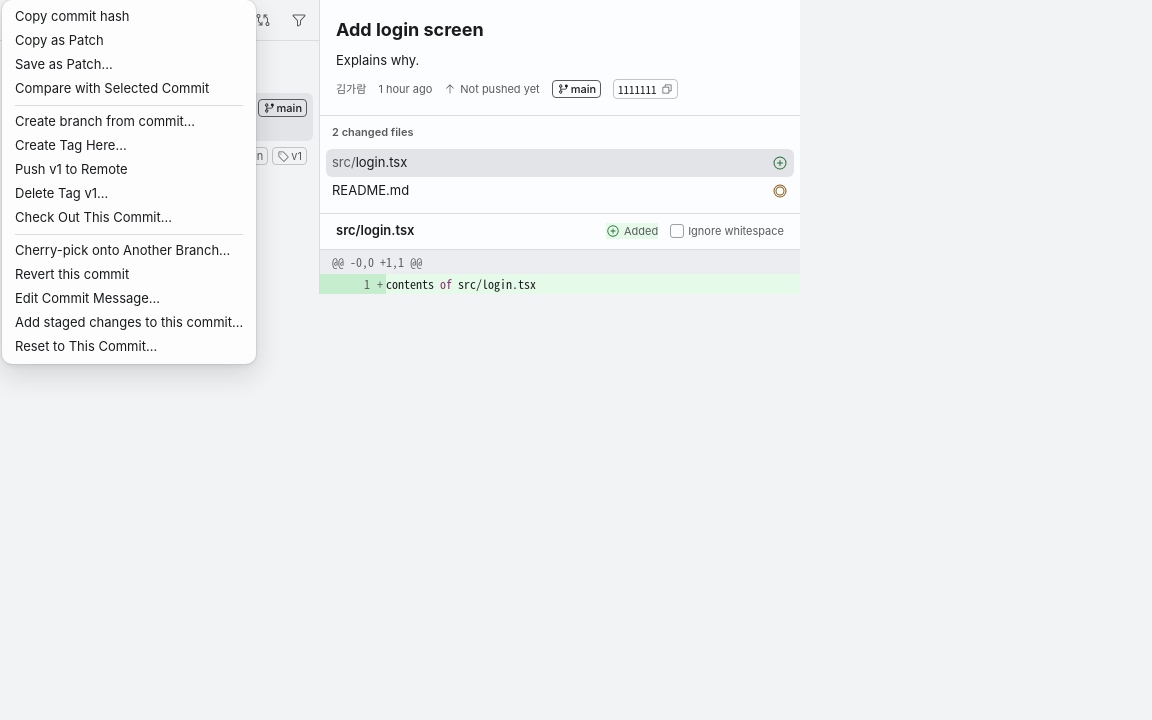
Scenario: HistoryView › requires explicit review after the staged tree changes
Click the menu item "Add staged changes to this commit…".
click(129, 323)  # box [7,311,251,335]
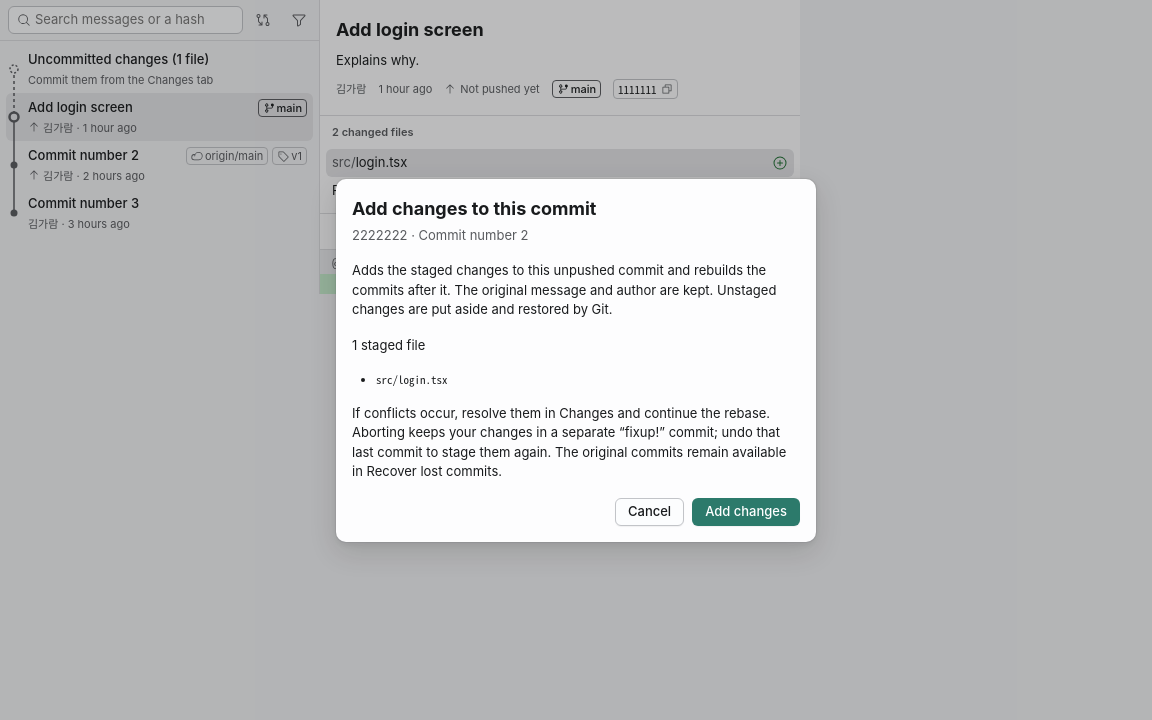
Expected: the list item "src/login.tsx" is shown, [376,371,448,387]
Click the button "Add changes".
click(746, 512)  # box [692,498,800,526]
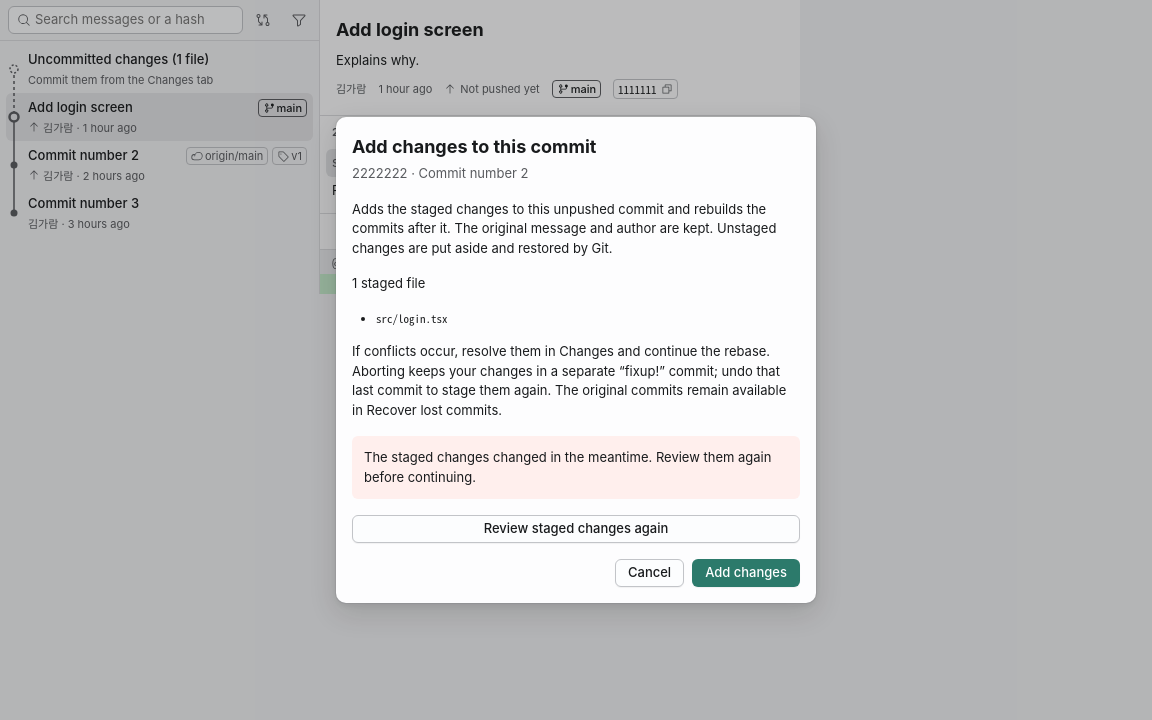
Expected: the message shows "The staged changes changed", [364,449,772,484]
Click the button "Review staged changes again".
click(576, 529)  # box [352,515,800,543]
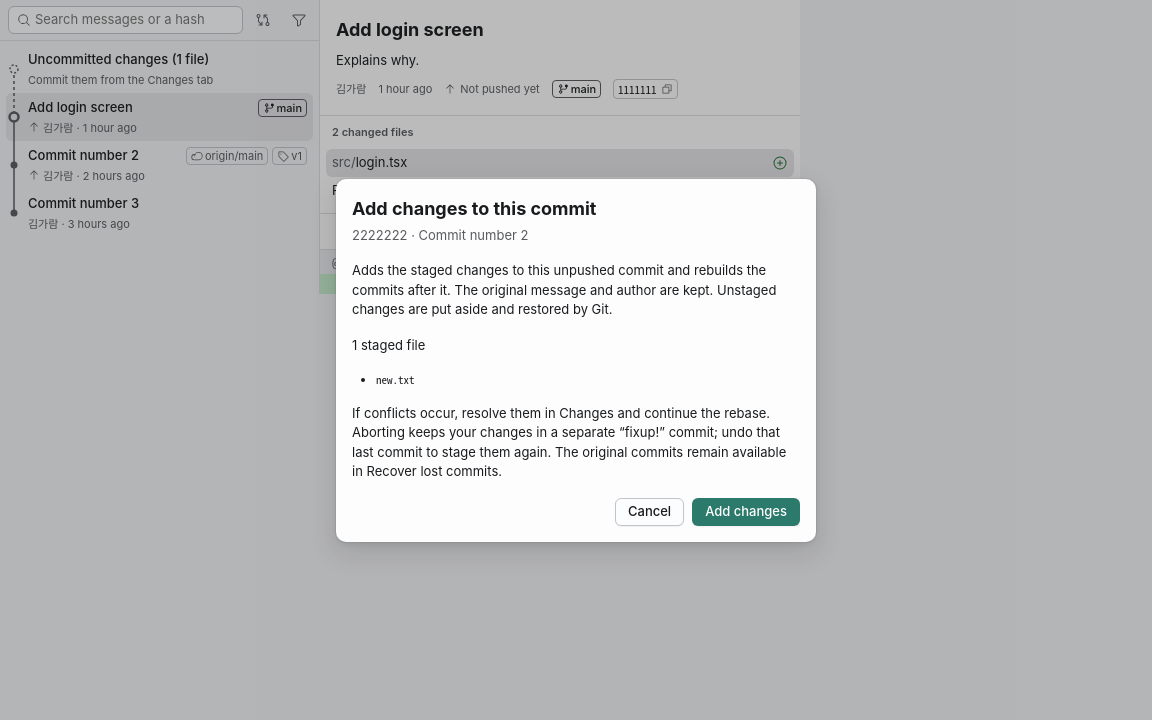
Expected: the list item "new.txt" is shown, [376,371,414,387]
